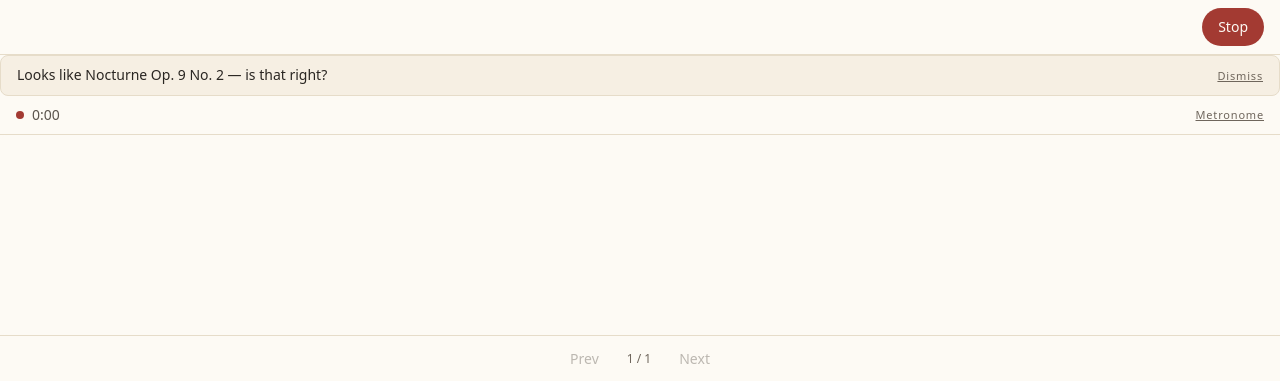
PracticeMode › shows ScoreStand plus a dismissible confirm chip for a confident guess
Expected: the text "Nocturne Op. 9 No. 2" is shown, left=85, top=65, right=224, bottom=84
Click the button "Dismiss" at (1240, 76), box left=1217, top=68, right=1263, bottom=83
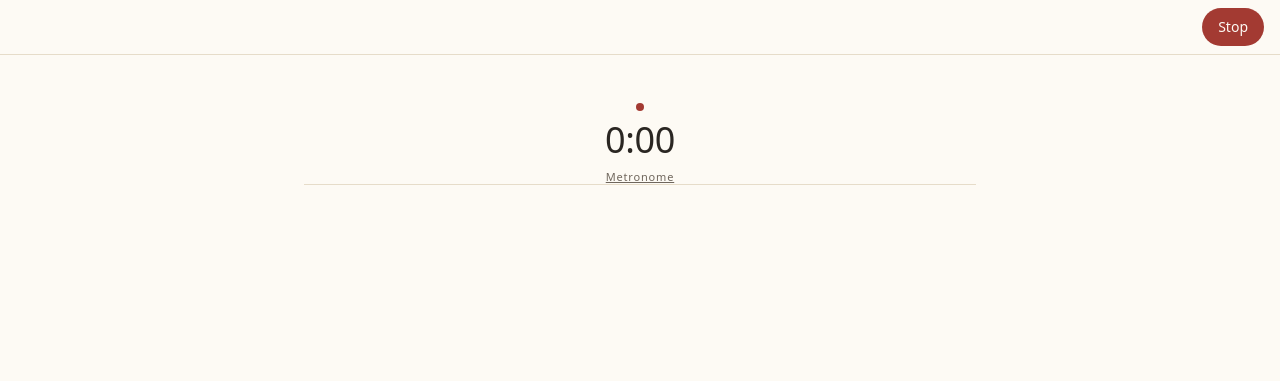
Expected: the text "Nocturne Op. 9 No. 2" is gone
